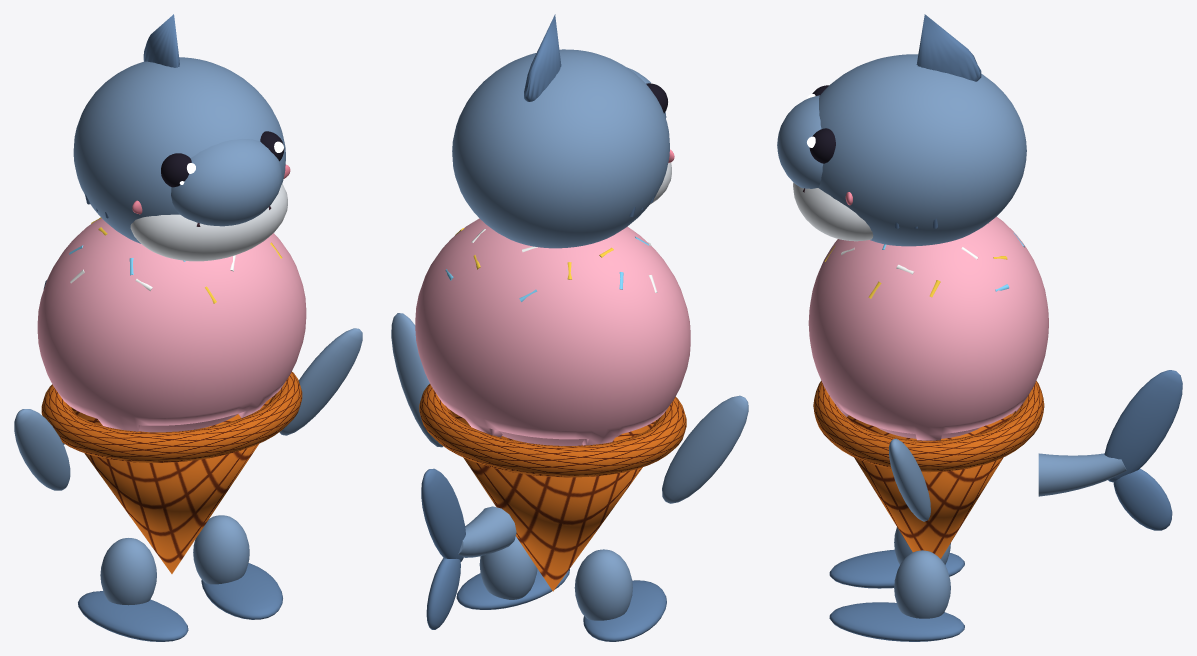
File: pilot_hai2_is.glb
3 views of the same model, side by side, from view 1: azimuth 30°, elevation 25°; view 2: azimuth 150°, elevation 25°; view 3: azimuth 270°, elevation 25° (orthographic). The views are drawn at different scales.
Visible parts, largest first — view 1: kropp, hode, bein_vf, bein_hf, vinge_h, vinge_v; view 2: kropp, hode, hale, bein_vf, vinge_v, bein_hf, vinge_h; view 3: kropp, hode, hale, bein_hf, bein_vf, vinge_h.
Boxes of the visible parts, x1,y1,x2,y2 form: kropp: (37,217,306,573); hode: (73,14,290,261); bein_vf: (78,538,188,641); bein_hf: (193,515,282,619); vinge_h: (279,328,362,435); vinge_v: (14,409,70,490); kropp: (415,218,690,591); hode: (452,14,674,248); hale: (421,468,516,629); bein_vf: (574,549,666,641); vinge_v: (662,395,748,503); bein_hf: (456,536,569,609); vinge_h: (391,313,443,447); kropp: (808,216,1048,558); hode: (777,14,1026,246); hale: (1038,370,1182,530); bein_hf: (829,550,964,641); bein_vf: (829,527,964,588); vinge_h: (889,438,930,521).
Bounding box in the file's own units: 1.27 × 2.06 × 1.28.
Materials: 15 (1 with a texture image).
